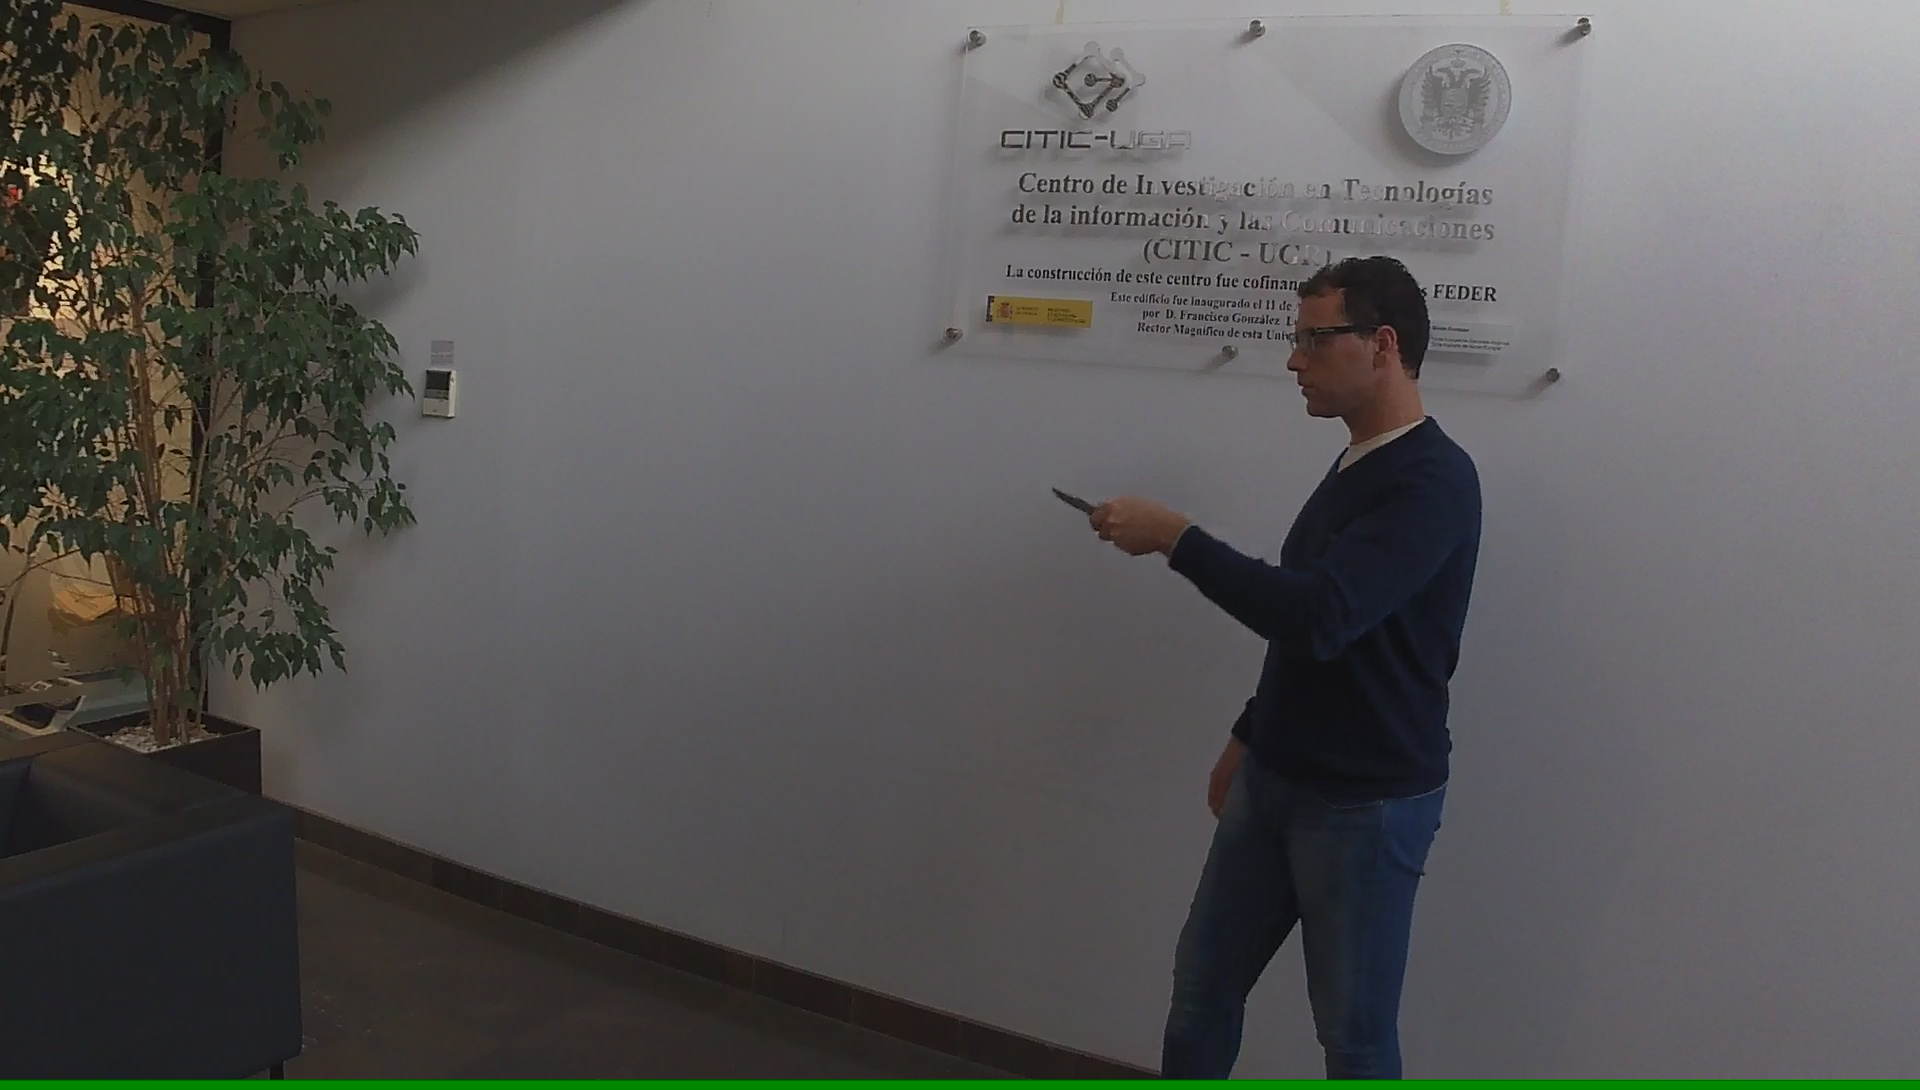knife: (1040, 473, 1139, 554)
